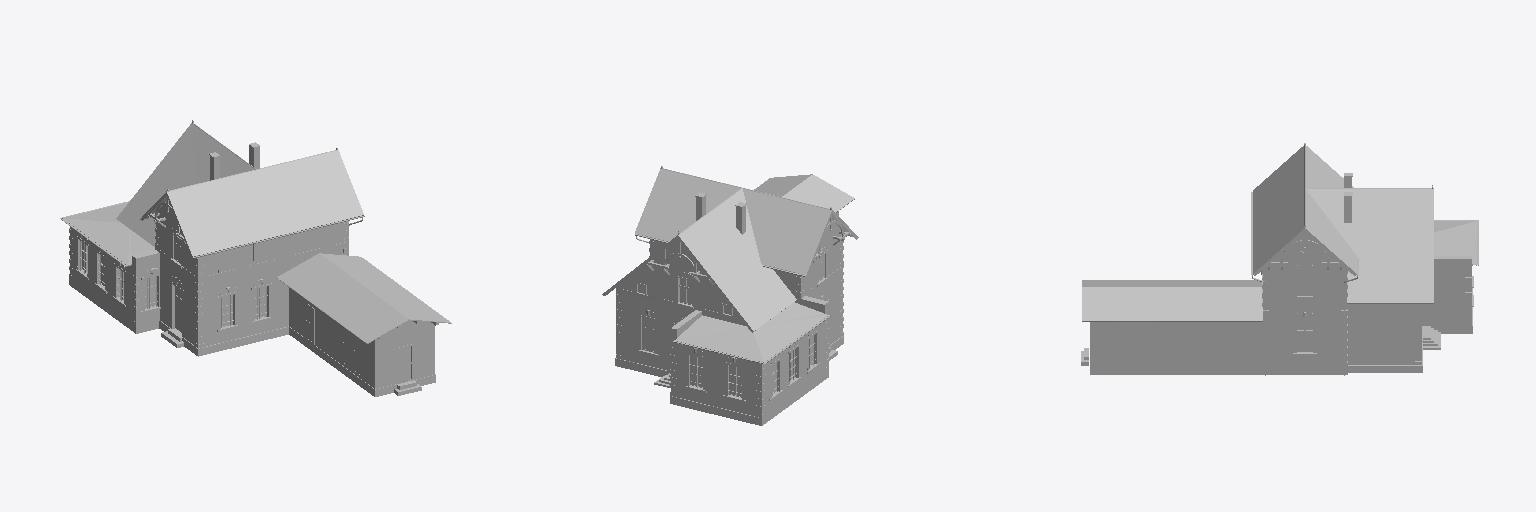
File: station.obj
The picture shows the model from 3 angles: view 1: azimuth 30°, elevation 25°; view 2: azimuth 150°, elevation 25°; view 3: azimuth 270°, elevation 25°; orthographic projection.
Visible parts, largest first — view 1: NieborowiceTrainStation; view 2: NieborowiceTrainStation; view 3: NieborowiceTrainStation.
Boxes of the visible parts, <box> form: NieborowiceTrainStation: <box>60,120,451,396</box>; NieborowiceTrainStation: <box>602,166,858,425</box>; NieborowiceTrainStation: <box>1081,143,1478,375</box>.
Size of the model in its own units: 12.9 by 9.96 by 23.03.